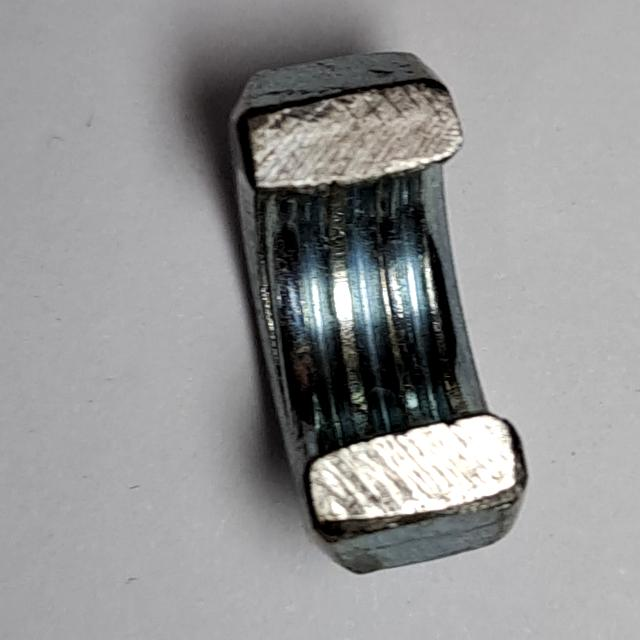Side-Fracture: (213, 34, 536, 586)
